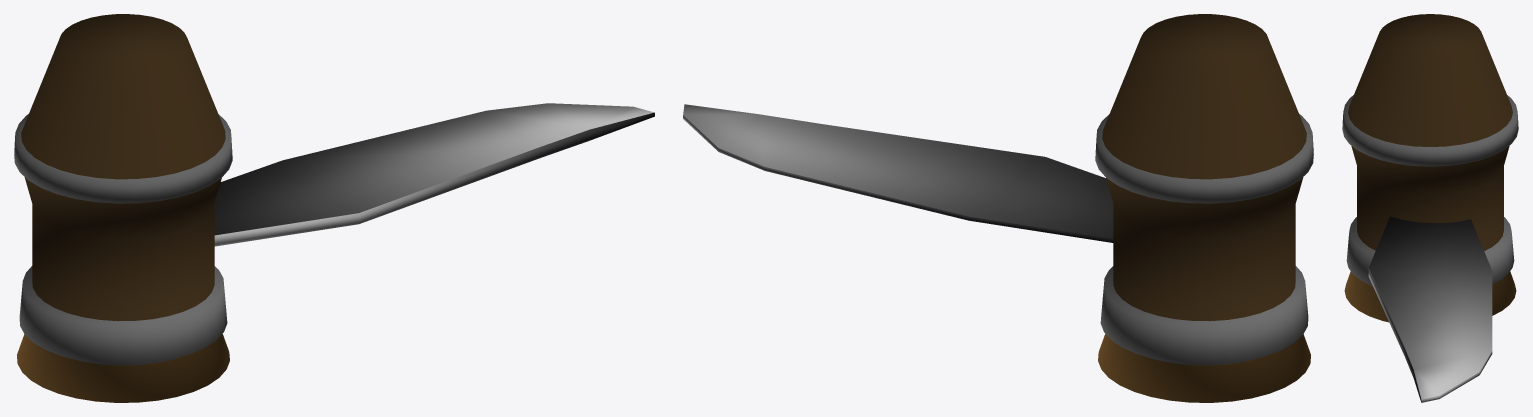
Rendered from blade_axis1.glb.
3 renders of one model, left to right at view 1: azimuth 30°, elevation 25°; view 2: azimuth 150°, elevation 25°; view 3: azimuth 270°, elevation 25°, orthographic. The views are drawn at different scales.
Parts seen in each view (by area): view 1: Cylinder, blade; view 2: Cylinder, blade; view 3: Cylinder, blade.
Boxes of the visible parts, x1,y1,x2,y2 form: Cylinder: (14,14,232,402); blade: (214,103,654,246); Cylinder: (1095,14,1313,402); blade: (683,104,1113,242); Cylinder: (1342,14,1518,322); blade: (1368,216,1492,402).
Bounding box in the file's own units: 1.06 × 0.5166 × 0.3237.
1 material, 1 textured.
